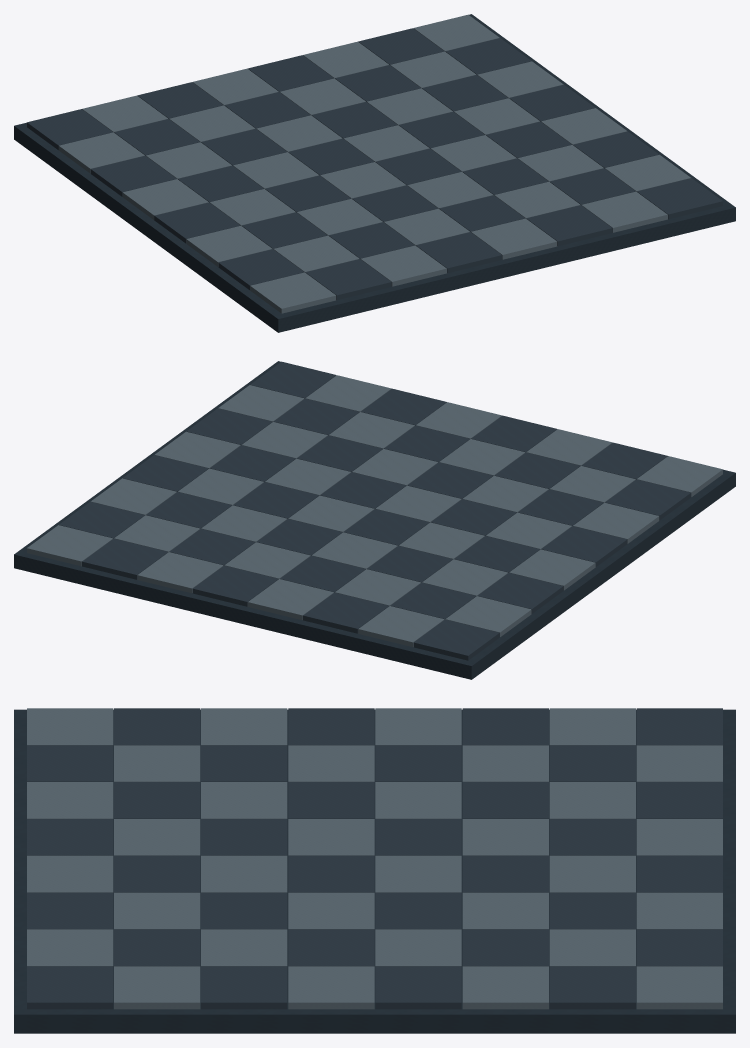
File: fractal-pawn-board.glb
The picture shows the model from 3 angles, top to bottom: view 1: azimuth 30°, elevation 25°; view 2: azimuth 150°, elevation 25°; view 3: azimuth 270°, elevation 25°; orthographic projection. The views are drawn at different scales.
Visible parts, largest first — view 1: Pawn chess board; view 2: Pawn chess board; view 3: Pawn chess board.
Part boxes in pixels (x1,y1,x2,y2): Pawn chess board: (14, 14, 735, 332); Pawn chess board: (14, 361, 735, 679); Pawn chess board: (14, 708, 735, 1033).
Size of the model in its own units: 13.26 by 0.515 by 13.26.
3 materials, 3 textured.
